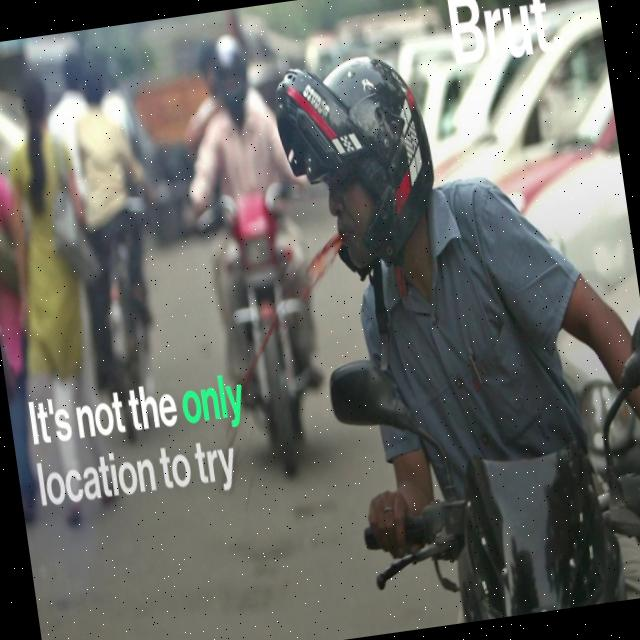spit: (218, 207, 359, 499)
